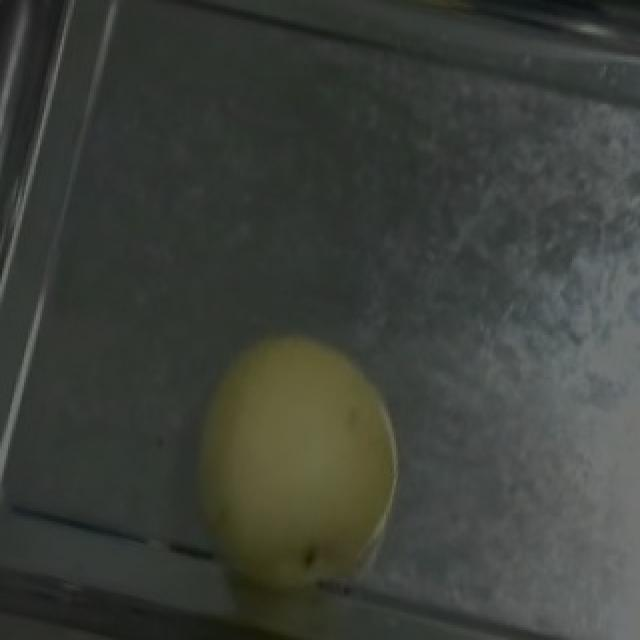Fruit: (154, 300, 424, 625)
